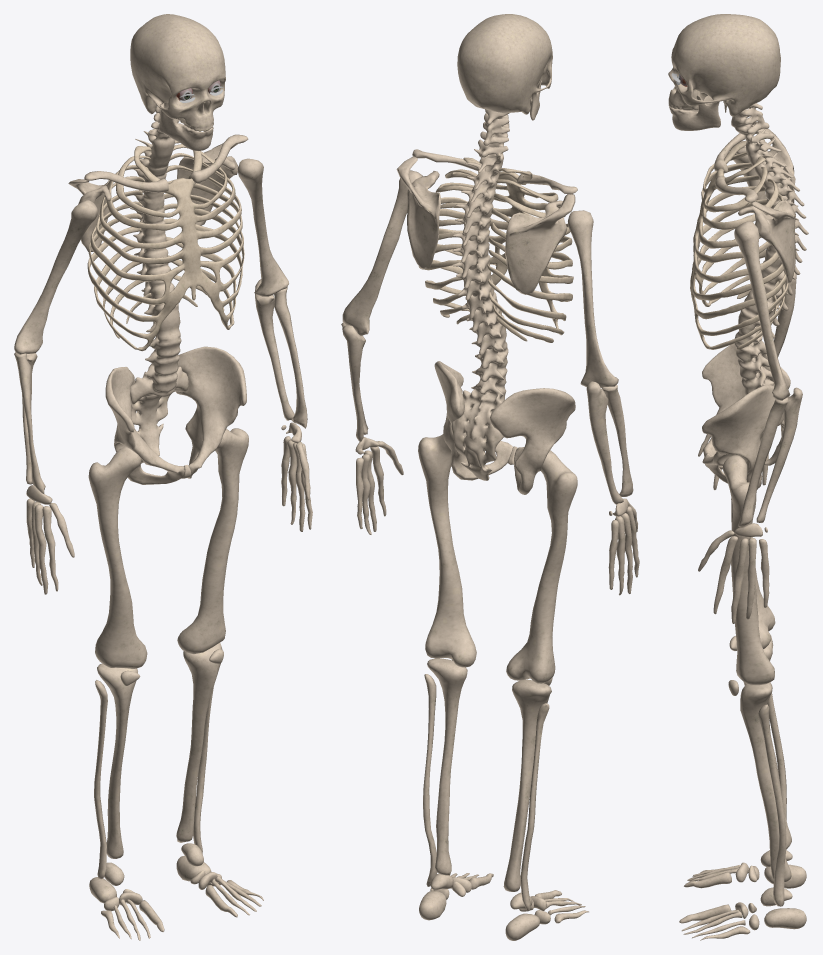
File: Perfect_human skeleton.fbx
3 views of the same model, side by side, from view 1: azimuth 30°, elevation 25°; view 2: azimuth 150°, elevation 25°; view 3: azimuth 270°, elevation 25° (orthographic).
Parts seen in each view (by area): view 1: Legs_Legs_0, Hands_Hands_0, Ribs, Skull_Skull_0, Pelvis_Pelvis_0, Spine_Spine_0; view 2: Legs_Legs_0, Hands_Hands_0, Spine_Spine_0, Ribs, Skull_Skull_0, Pelvis_Pelvis_0; view 3: Legs_Legs_0, Hands_Hands_0, Skull_Skull_0, Ribs, Spine_Spine_0, Pelvis_Pelvis_0.
Part boxes in pixels (left/top/right/bottom): Legs_Legs_0: left=88, top=428, right=263, bottom=940; Hands_Hands_0: left=14, top=134, right=312, bottom=594; Ribs: left=87, top=140, right=244, bottom=351; Skull_Skull_0: left=130, top=14, right=225, bottom=151; Pelvis_Pelvis_0: left=105, top=346, right=246, bottom=484; Spine_Spine_0: left=130, top=102, right=188, bottom=455; Legs_Legs_0: left=418, top=434, right=588, bottom=940; Hands_Hands_0: left=341, top=149, right=639, bottom=595; Spine_Spine_0: left=451, top=109, right=509, bottom=480; Ribs: left=418, top=157, right=573, bottom=342; Skull_Skull_0: left=457, top=14, right=552, bottom=120; Pelvis_Pelvis_0: left=434, top=361, right=575, bottom=494; Legs_Legs_0: left=679, top=455, right=806, bottom=940; Hands_Hands_0: left=698, top=124, right=802, bottom=623; Skull_Skull_0: left=668, top=14, right=780, bottom=130; Ribs: left=690, top=139, right=788, bottom=349; Spine_Spine_0: left=731, top=103, right=808, bottom=465; Pelvis_Pelvis_0: left=702, top=343, right=790, bottom=489.
Bounding box in the file's own units: 0.6612 × 2.04 × 0.2916.
8 materials, 7 textured.
